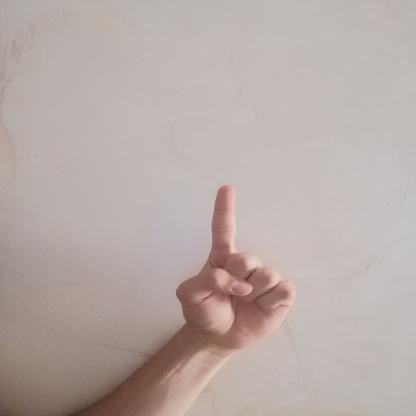BAA: (162, 175, 307, 359)
